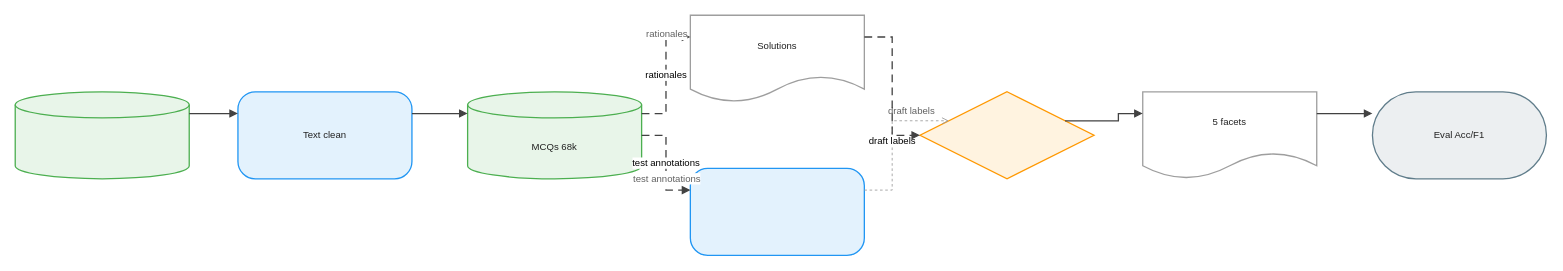
The diagram is 1563 pixels wide and 271 high, and some of its shapes have lost their labels. The centre of each missing label's shape, as x and y in pixels:
"CNMLE 96k" goes at point (101, 135).
"Expert QC" goes at point (1006, 135).
"GPT draft" goes at point (777, 211).
